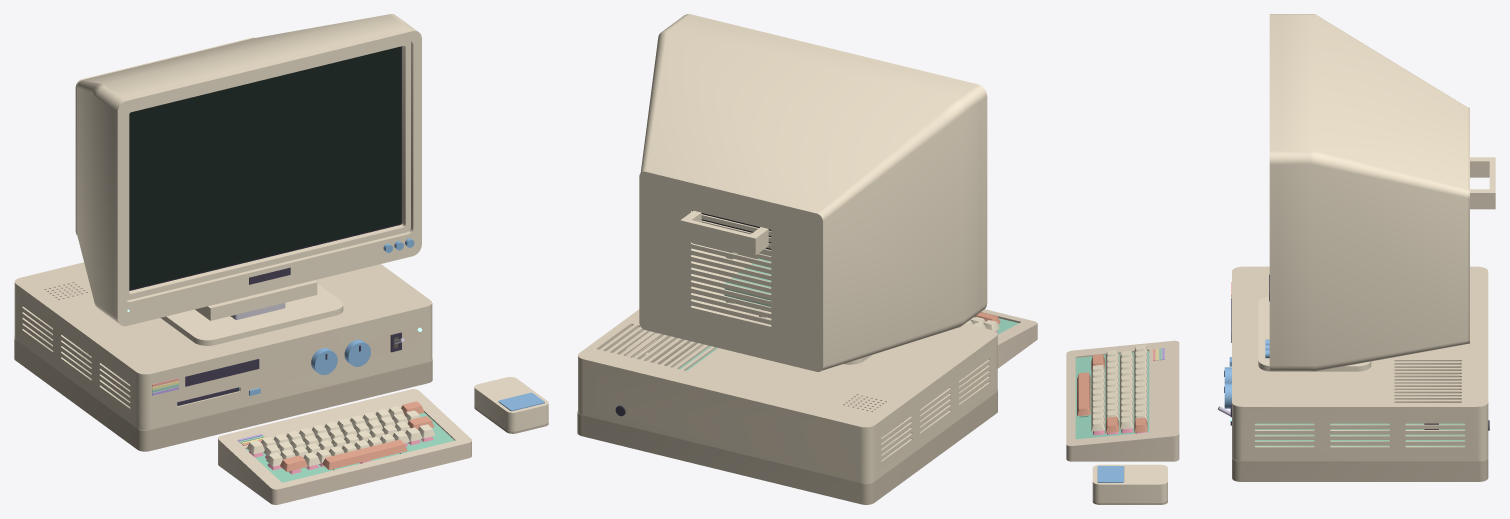
Rendered from pastella84.glb.
The picture shows the model from 3 angles, left to right: view 1: azimuth 30°, elevation 25°; view 2: azimuth 150°, elevation 25°; view 3: azimuth 270°, elevation 25°; orthographic projection. The views are drawn at different scales.
Visible parts, largest first — view 1: crt_screen, lid, bezel, rear_shell, keyboard_case, tray, stand_base, mouse_shell, tilt_cradle, kb_plate, key_space_cap, brand_badge (+2 smaller); view 2: rear_shell, lid, back_cover, tray, bezel, carry_handle, keyboard_case, lcd_board; view 3: rear_shell, lid, keyboard_case, tray, bezel, mouse_shell, kb_plate, mainboard, carry_handle, stand_base, key_space_cap.
Part boxes in pixels (x1,y1,x2,y2): crt_screen: [129, 46, 400, 289]; lid: [14, 262, 432, 430]; bezel: [111, 26, 421, 326]; rear_shell: [76, 14, 411, 319]; keyboard_case: [218, 389, 471, 504]; tray: [14, 335, 432, 451]; stand_base: [160, 284, 343, 345]; mouse_shell: [474, 377, 548, 431]; tilt_cradle: [195, 280, 317, 320]; kb_plate: [246, 413, 454, 482]; key_space_cap: [322, 439, 407, 469]; brand_badge: [185, 359, 259, 386]; rear_shell: [640, 18, 981, 370]; lid: [578, 309, 997, 483]; back_cover: [639, 171, 823, 371]; tray: [577, 339, 997, 504]; bezel: [680, 14, 987, 312]; carry_handle: [680, 210, 768, 255]; keyboard_case: [981, 309, 1037, 368]; lcd_board: [724, 258, 771, 308]; rear_shell: [1281, 14, 1468, 371]; lid: [1232, 266, 1488, 461]; keyboard_case: [1066, 340, 1179, 461]; tray: [1232, 457, 1488, 481]; bezel: [1269, 14, 1280, 371]; mouse_shell: [1092, 464, 1167, 502]; kb_plate: [1075, 351, 1149, 439]; mainboard: [1255, 423, 1465, 446]; carry_handle: [1470, 157, 1495, 209]; stand_base: [1258, 296, 1371, 371]; key_space_cap: [1077, 372, 1090, 416].
Bounding box in the file's own units: 0.5136 × 0.4848 × 0.57.
